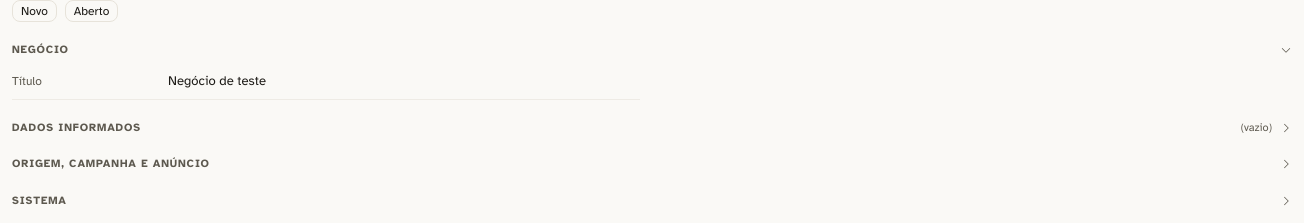
Scenario: seções recolhíveis dos dados do lead › abre e fecha por clique e por teclado com os atributos acessíveis
The width and height of the screenshot is (1304, 223).
Step 1. Click the button "Negócio" → (40, 50), box [12, 42, 1292, 58]
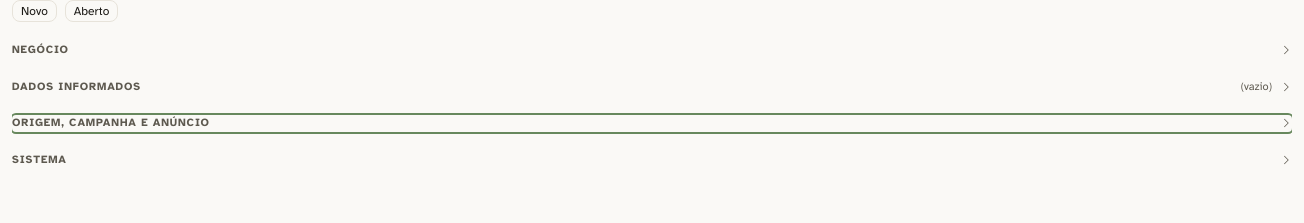
expect the button "Negócio" is collapsed: met, box [12, 42, 1292, 58]
Step 2. Press Enter
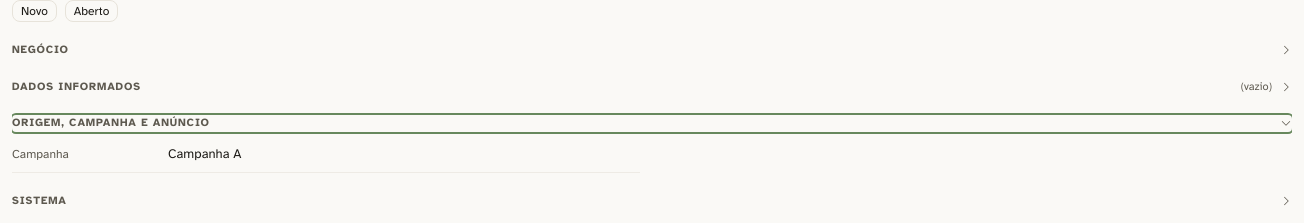
expect the button "Origem, campanha e anúncio" is expanded: met, box [12, 115, 1292, 132]
Step 3. Type keys " "
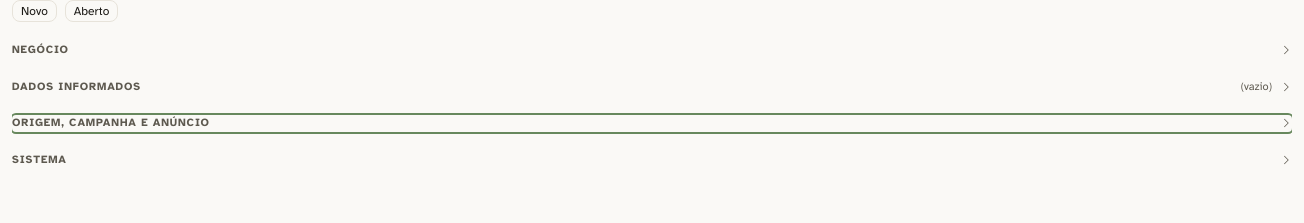
expect the button "Origem, campanha e anúncio" is collapsed: met, box [12, 115, 1292, 132]
